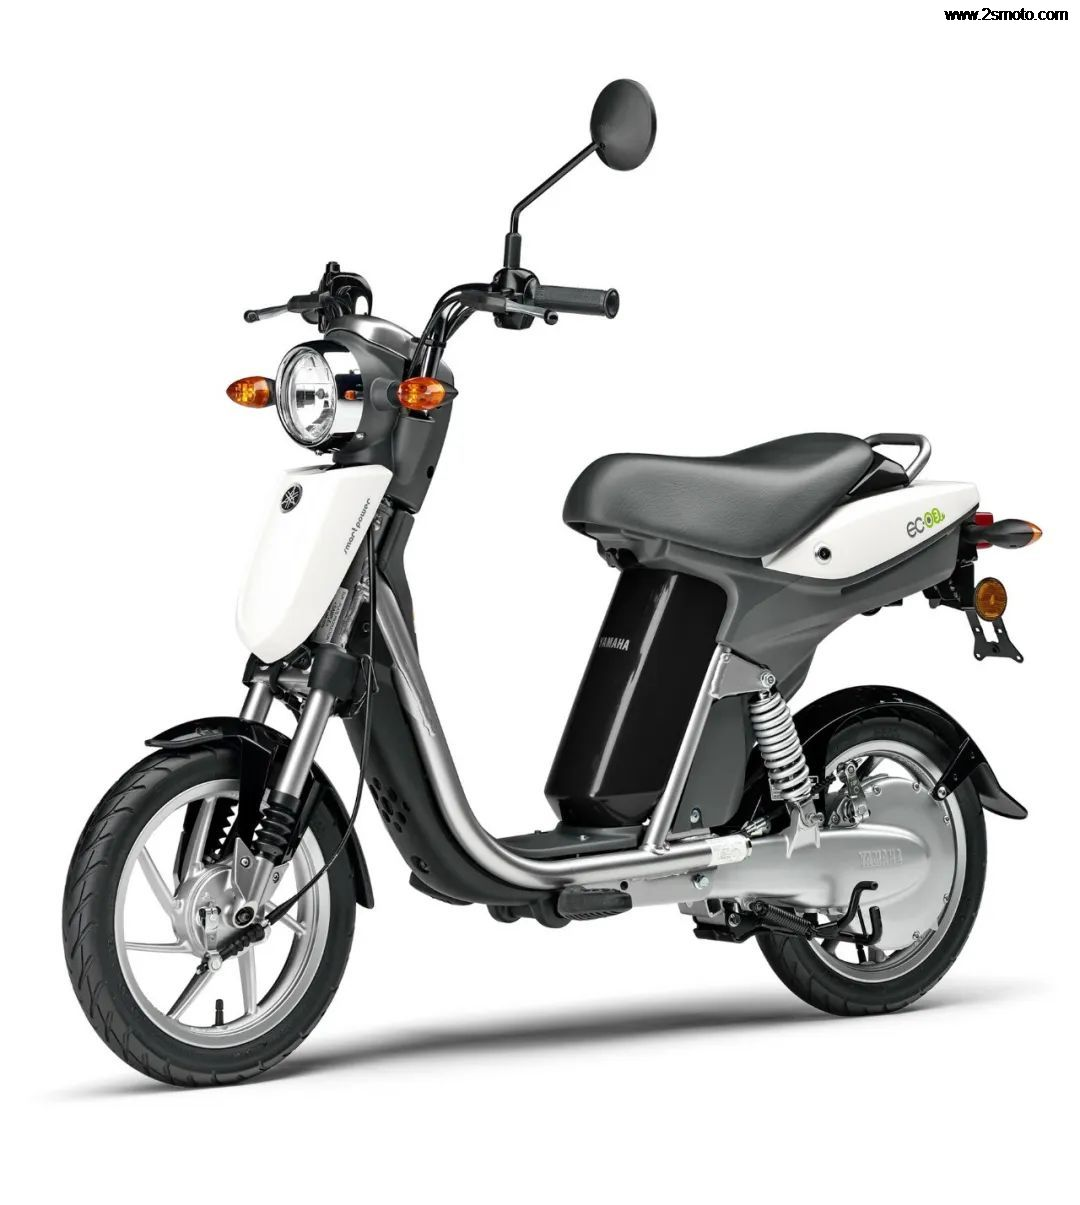电动车: (49, 71, 1047, 1103)
